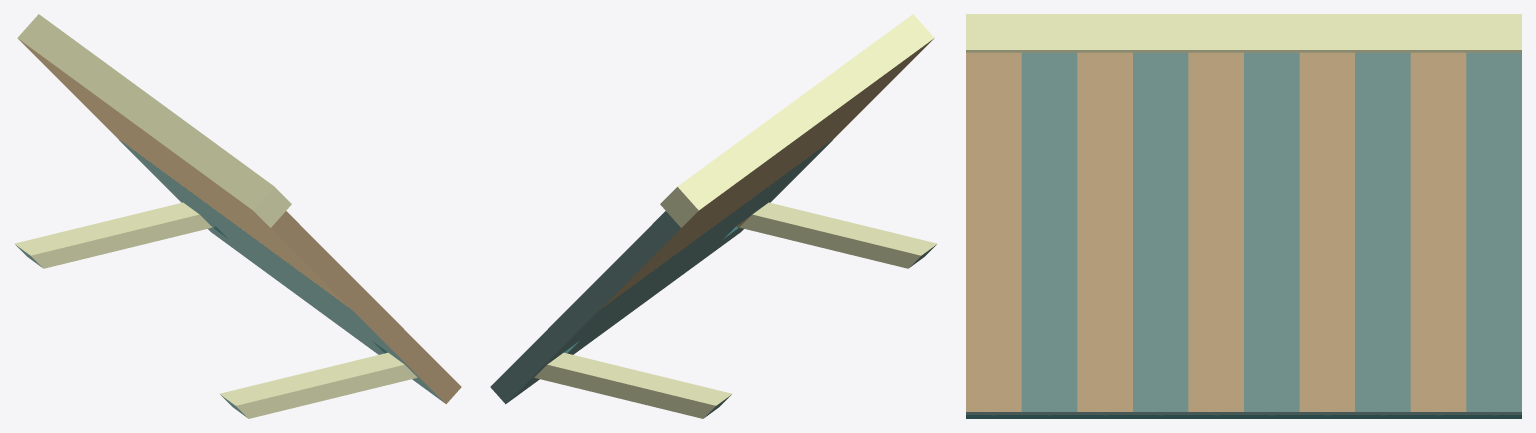
File: ToldoDoble.fbx
3 views of the same model, side by side, from view 1: azimuth 30°, elevation 25°; view 2: azimuth 150°, elevation 25°; view 3: azimuth 270°, elevation 25° (orthographic). The views are drawn at different scales.
Visible parts, largest first — view 1: Cube.031; view 2: Cube.031; view 3: Cube.031.
Boxes of the visible parts, x1,y1,x2,y2 form: Cube.031: (14, 14, 461, 418); Cube.031: (490, 14, 937, 418); Cube.031: (966, 14, 1521, 418).
Bounding box in the file's own units: 43.24 × 49.01 × 80.64.
